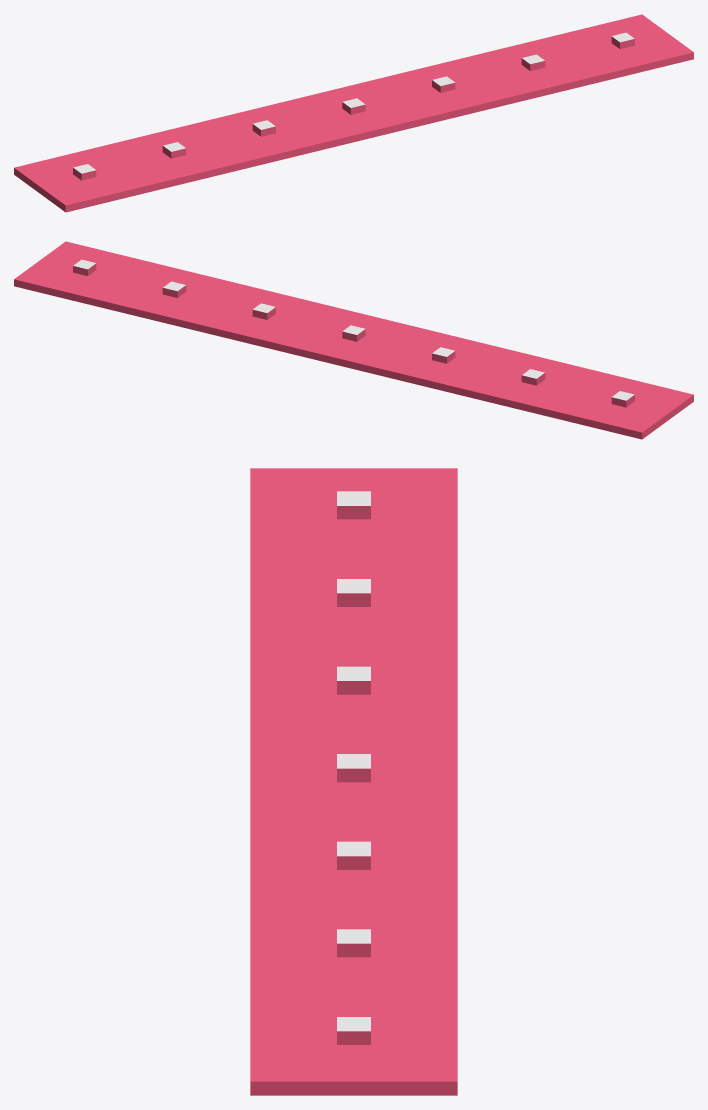
Rendered from Ceiling.fbx.
3 renders of one model, top to bottom at view 1: azimuth 30°, elevation 25°; view 2: azimuth 150°, elevation 25°; view 3: azimuth 270°, elevation 25°, orthographic. The views are drawn at different scales.
Visible parts, largest first — view 1: Cube; view 2: Cube; view 3: Cube.
Part boxes in pixels (x1,y1,x2,y2): Cube: (14,14,693,212); Cube: (14,241,693,439); Cube: (250,468,457,1095).
Bounding box in the file's own units: 1400 × 29.41 × 200.
